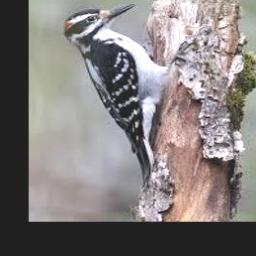Woodpecker: (64, 3, 170, 184)
